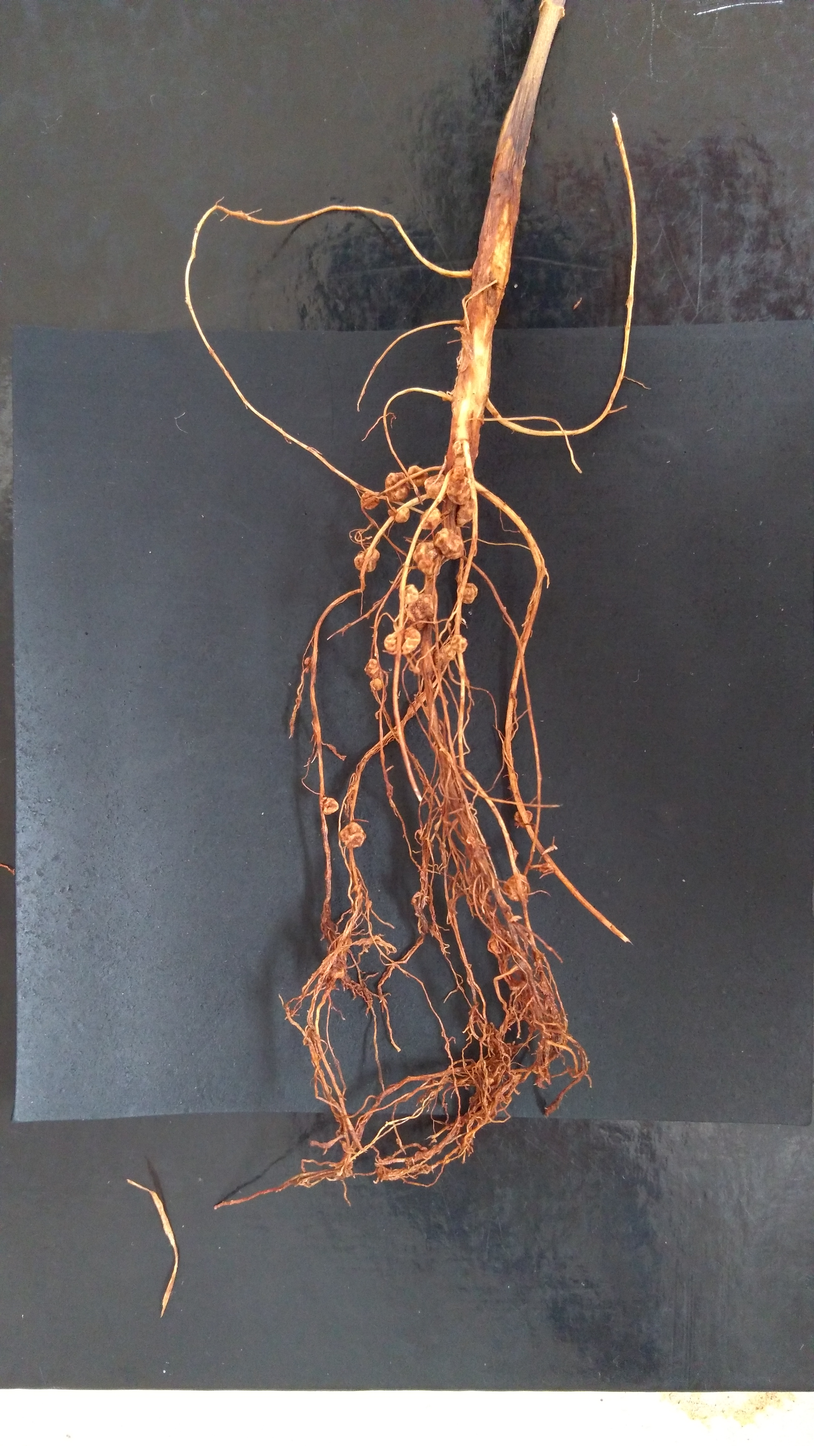nodule: (403, 593, 435, 631), (412, 542, 445, 576), (383, 627, 421, 654), (433, 528, 464, 559), (453, 326, 473, 373), (446, 473, 472, 505), (385, 472, 410, 502), (340, 821, 366, 849), (503, 873, 529, 901), (353, 547, 380, 572), (423, 474, 449, 499), (433, 643, 456, 667), (455, 498, 474, 527), (406, 465, 430, 487), (419, 507, 441, 529), (457, 583, 478, 604), (331, 935, 351, 957), (453, 455, 470, 480), (360, 490, 380, 510), (399, 584, 419, 604), (490, 936, 512, 954), (450, 634, 468, 654), (320, 796, 338, 815), (513, 809, 532, 826), (364, 659, 380, 679), (376, 1166, 396, 1181), (328, 964, 347, 979), (452, 440, 466, 458), (508, 979, 529, 991), (395, 507, 410, 523), (369, 678, 383, 691), (510, 1072, 524, 1083), (465, 835, 476, 845), (468, 1095, 478, 1106), (483, 1076, 494, 1084), (426, 1078, 437, 1086), (387, 507, 396, 516), (304, 657, 313, 665), (410, 896, 418, 905), (363, 899, 372, 907), (438, 842, 446, 850), (533, 961, 540, 968), (304, 666, 310, 673), (431, 1137, 437, 1144), (395, 1137, 400, 1145), (420, 1146, 428, 1151), (417, 829, 422, 835)
